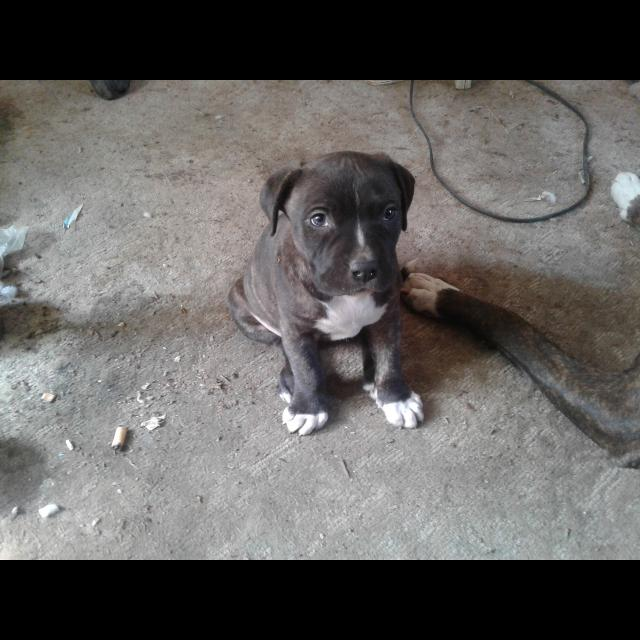am_pit_bull_terrier: (227, 151, 456, 438)
